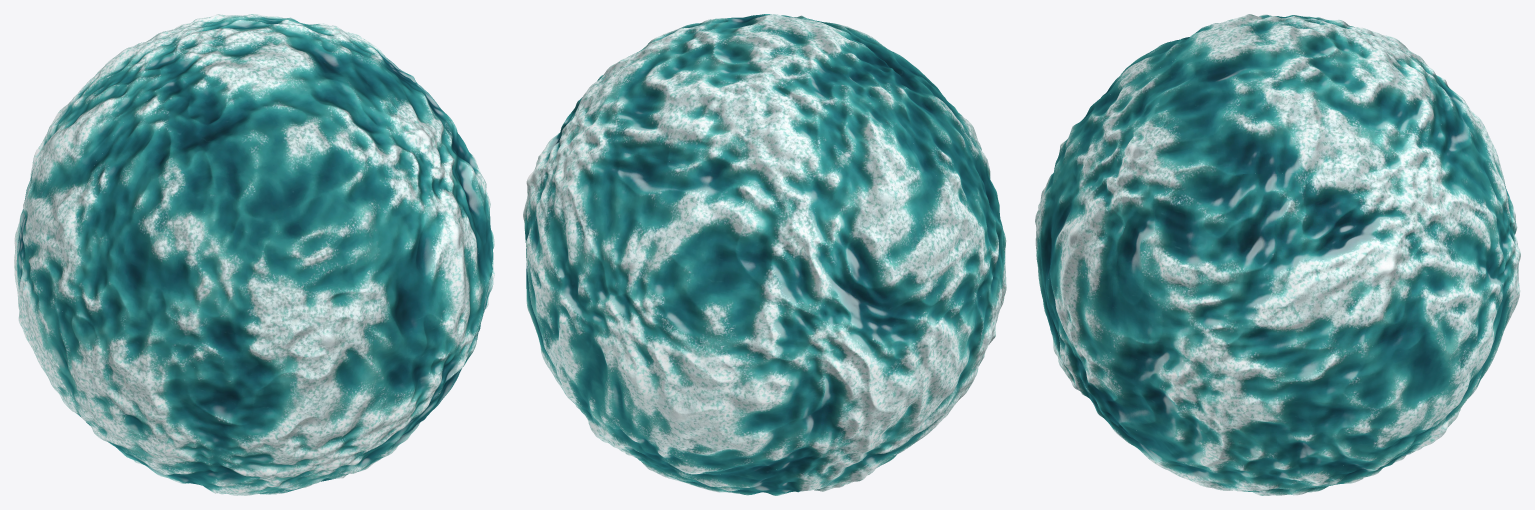
Rendered from Aqua_Foam.5dbddd0ff7.glb.
3 renders of one model, left to right at view 1: azimuth 30°, elevation 25°; view 2: azimuth 150°, elevation 25°; view 3: azimuth 270°, elevation 25°, orthographic.
Visible parts, largest first — view 1: Aqua_NY_01, Aqua_NX_11, Aqua_PZ_00, Aqua_NY_00, Aqua_NY_11, Aqua_NX_10, Aqua_PZ_10, Aqua_NY_10, Aqua_PZ_01, Aqua_NX_01, Aqua_NZ_01, Aqua_PX_01 (+3 smaller); view 2: Aqua_PY_11, Aqua_NX_01, Aqua_PZ_01, Aqua_PY_10, Aqua_PY_01, Aqua_NX_00, Aqua_PZ_11, Aqua_PY_00, Aqua_NX_11, Aqua_PZ_00, Aqua_NZ_00, Aqua_PX_11 (+3 smaller); view 3: Aqua_PX_11, Aqua_PX_01, Aqua_PZ_10, Aqua_PZ_11, Aqua_PX_10, Aqua_PX_00, Aqua_NY_11, Aqua_PY_01, Aqua_PY_00, Aqua_NY_10, Aqua_PZ_01, Aqua_PZ_00 (+4 smaller).
Boxes of the visible parts, x1,y1,x2,y2 form: Aqua_NY_01: (193,166,374,356); Aqua_NX_11: (49,140,205,352); Aqua_PZ_00: (111,37,337,210); Aqua_NY_00: (193,342,373,477); Aqua_NY_11: (338,149,483,342); Aqua_NX_10: (49,306,204,464); Aqua_PZ_10: (255,33,442,165); Aqua_NY_10: (339,281,484,469); Aqua_PZ_01: (68,18,254,139); Aqua_NX_01: (14,110,110,304); Aqua_NZ_01: (116,446,339,495); Aqua_PX_01: (399,71,494,280); Aqua_PY_11: (642,163,826,357); Aqua_NX_01: (814,137,971,353); Aqua_PZ_01: (680,34,909,208); Aqua_PY_10: (643,343,826,474); Aqua_PY_01: (530,147,679,342); Aqua_NX_00: (814,305,972,466); Aqua_PZ_11: (570,30,763,163); Aqua_PY_00: (532,285,678,469); Aqua_NX_11: (910,108,1006,304); Aqua_PZ_00: (764,18,951,136); Aqua_NZ_00: (679,454,896,495); Aqua_PX_11: (523,75,603,278); Aqua_PX_11: (1277,172,1446,354); Aqua_PX_01: (1109,173,1276,354); Aqua_PZ_10: (1107,35,1276,187); Aqua_PZ_11: (1277,33,1444,186); Aqua_PX_10: (1277,325,1445,478); Aqua_PX_00: (1108,325,1276,477); Aqua_NY_11: (1036,103,1139,324); Aqua_PY_01: (1416,102,1519,324); Aqua_PY_00: (1414,264,1520,439); Aqua_NY_10: (1037,260,1140,434); Aqua_PZ_01: (1277,15,1446,101); Aqua_PZ_00: (1110,14,1276,102).
Bounding box in the file's own units: 2.03 × 2.05 × 2.05.
24 materials, 24 textured.
